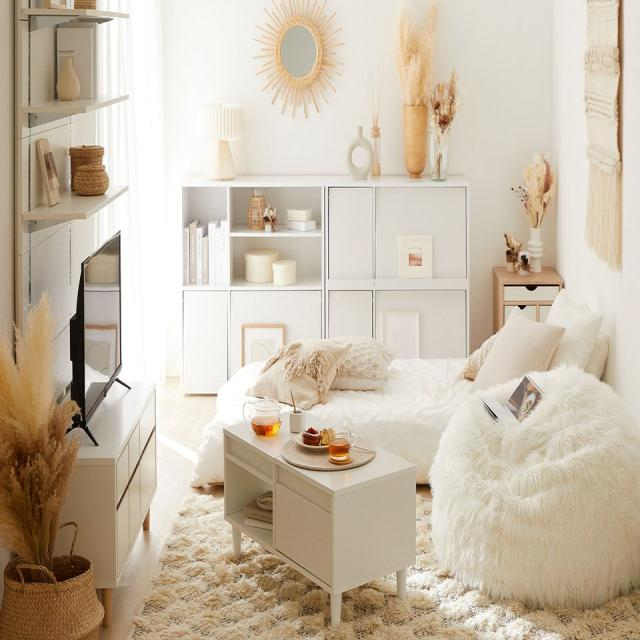white desk: (216, 405, 419, 630)
white shelf: (173, 164, 475, 366)
